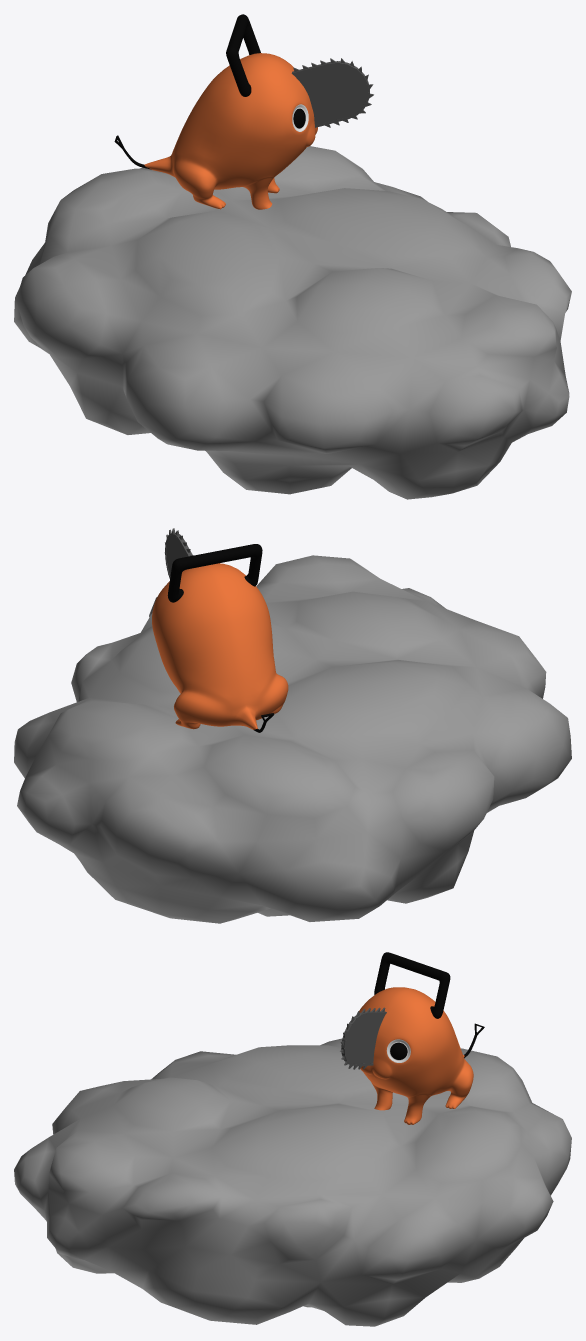
File: pochita-cloud.glb
3 views of the same model, one above another, from view 1: azimuth 30°, elevation 25°; view 2: azimuth 150°, elevation 25°; view 3: azimuth 270°, elevation 25° (orthographic). The views are drawn at different scales.
Parts seen in each view (by area): view 1: Object_3, Pochita Remesh.001, Cube.018, Cube.016; view 2: Object_3, Pochita Remesh.001, Cube.016, Cube.018; view 3: Object_3, Pochita Remesh.001, Cube.018, Cube.016.
Part boxes in pixels (<box>): Object_3: <box>14,146,571,499</box>; Pochita Remesh.001: <box>144,53,317,209</box>; Cube.018: <box>291,58,373,127</box>; Cube.016: <box>226,14,260,96</box>; Object_3: <box>14,555,571,923</box>; Pochita Remesh.001: <box>152,563,288,729</box>; Cube.016: <box>167,544,262,602</box>; Cube.018: <box>164,528,193,578</box>; Object_3: <box>14,1038,571,1326</box>; Pochita Remesh.001: <box>359,987,473,1124</box>; Cube.018: <box>340,1007,386,1069</box>; Cube.016: <box>374,952,450,1018</box>.
Bounding box in the file's own units: 5.57 × 4.66 × 7.02.
